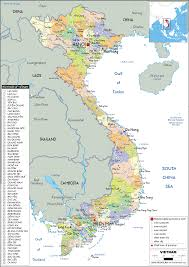Island: (163, 111, 185, 130)
